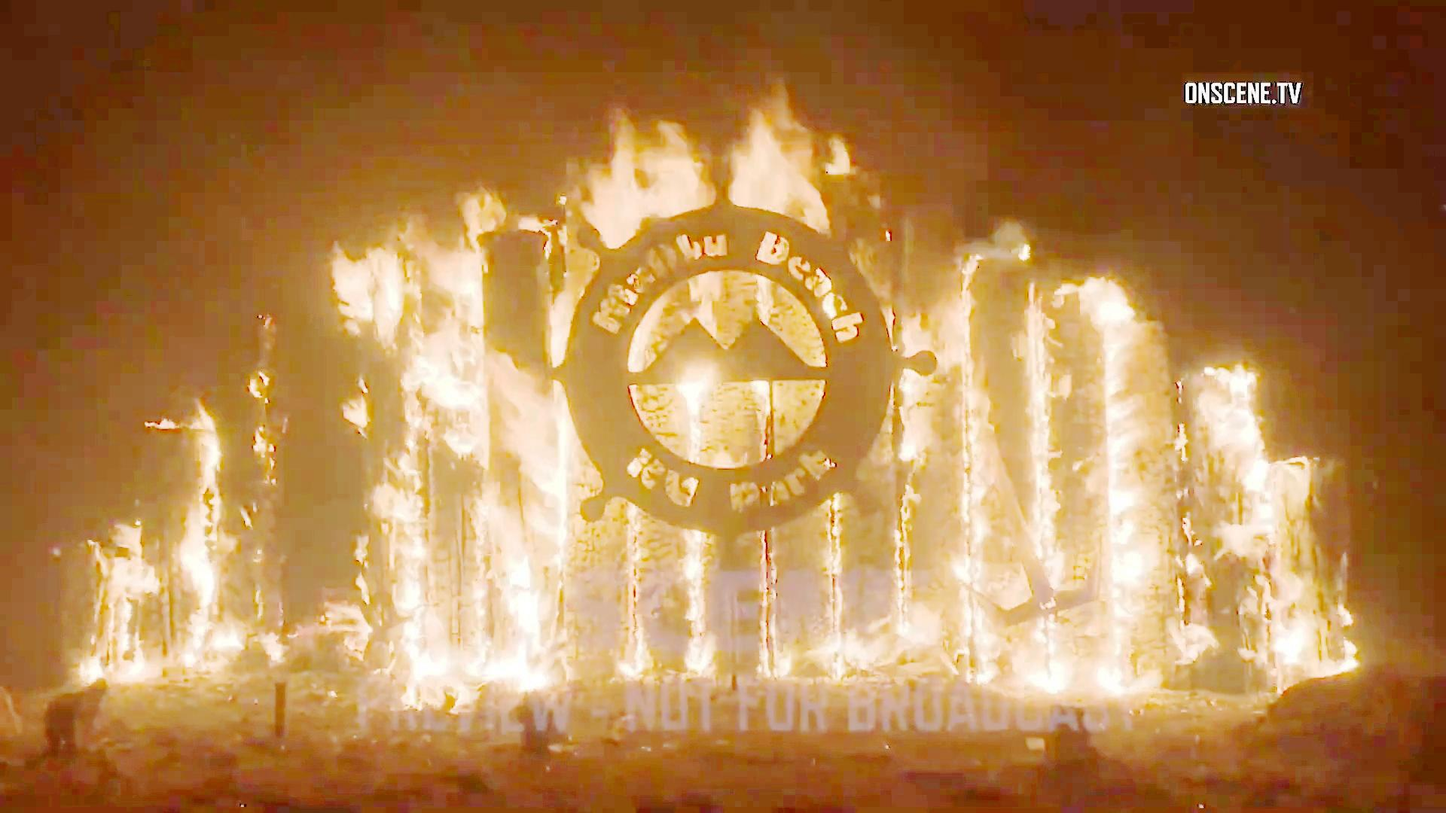fire: (940, 243, 1269, 685), (319, 217, 573, 675)
